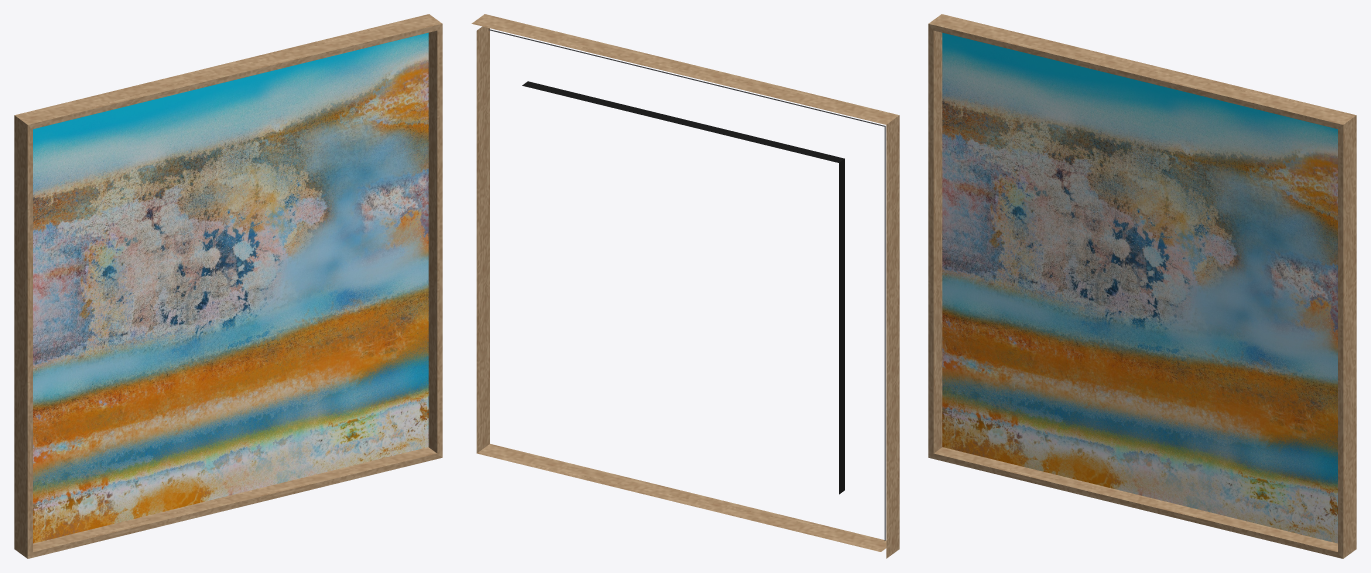
File: va180_moyen_caisse-chene.glb
3 renders of one model, left to right at view 1: azimuth 30°, elevation 25°; view 2: azimuth 150°, elevation 25°; view 3: azimuth 330°, elevation 25°, orthographic.
Parts seen in each view (by area): view 1: va180_moyen_caisse-chene; view 2: va180_moyen_caisse-chene; view 3: va180_moyen_caisse-chene.
Boxes of the visible parts, <box> form: va180_moyen_caisse-chene: <box>14,14,442,558</box>; va180_moyen_caisse-chene: <box>471,14,899,558</box>; va180_moyen_caisse-chene: <box>928,14,1356,558</box>.
Size of the model in its own units: 0.628 by 0.628 by 0.035.
Materials: 4 (2 with a texture image).
